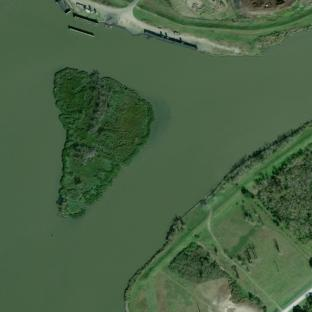Floresta: (168, 242, 266, 310), (254, 143, 312, 242)
